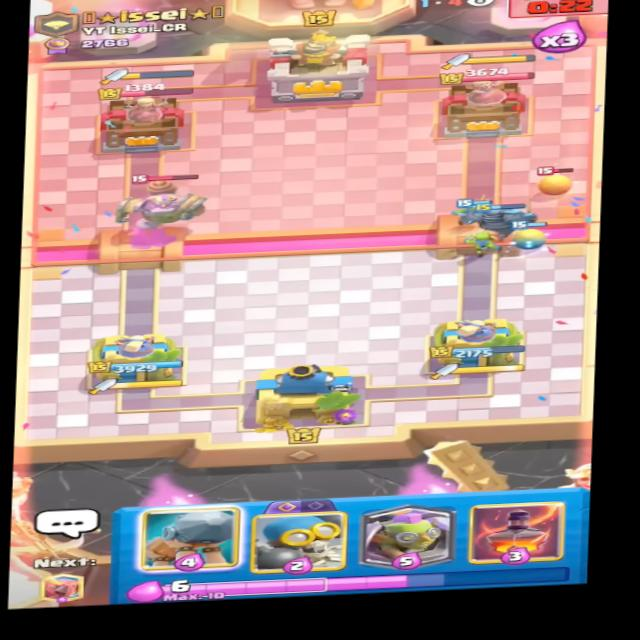goblin-machine: (113, 167, 219, 227)
phoenix-egg: (527, 165, 577, 196)
